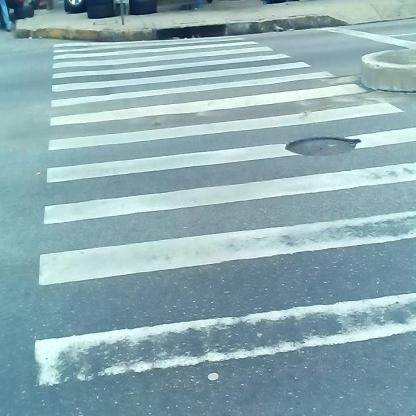crosswalk: (33, 46, 401, 400)
sidewalk: (17, 10, 399, 49)
